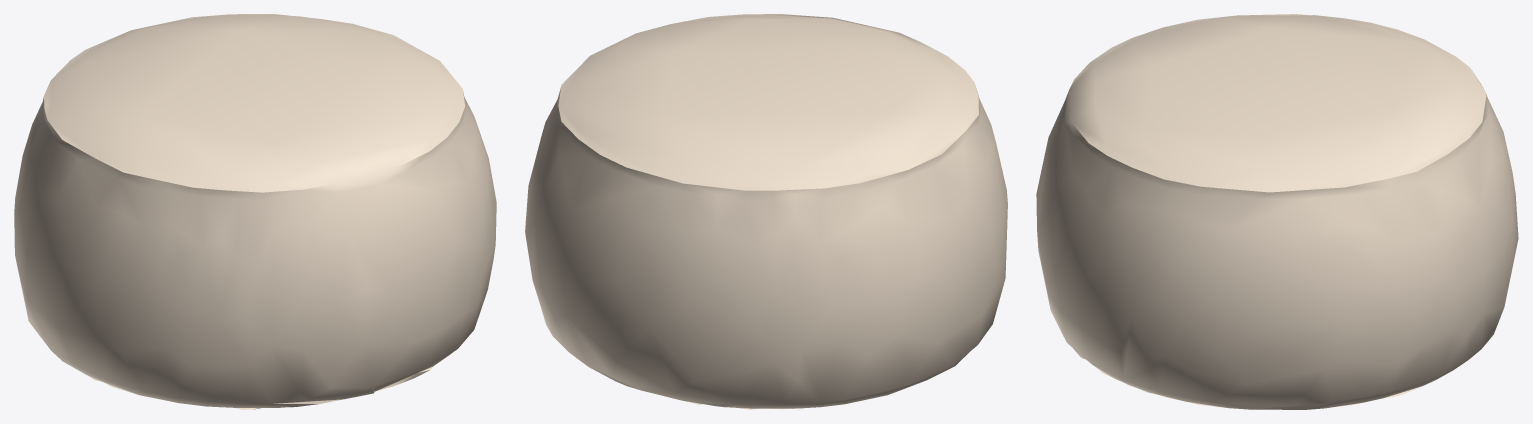
File: pouf.glb
The picture shows the model from 3 angles, left to right: view 1: azimuth 30°, elevation 25°; view 2: azimuth 150°, elevation 25°; view 3: azimuth 270°, elevation 25°; orthographic projection.
Visible parts, largest first — view 1: pouf_fabric; view 2: pouf_fabric; view 3: pouf_fabric.
Part boxes in pixels (left/top/right/bottom): pouf_fabric: left=14, top=14, right=496, bottom=409; pouf_fabric: left=525, top=14, right=1007, bottom=409; pouf_fabric: left=1036, top=14, right=1518, bottom=409.
Size of the model in its own units: 0.8014 by 0.4294 by 0.8014.
